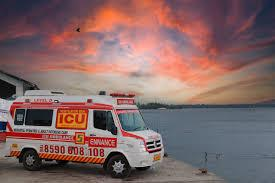ER: (5, 89, 164, 178)
